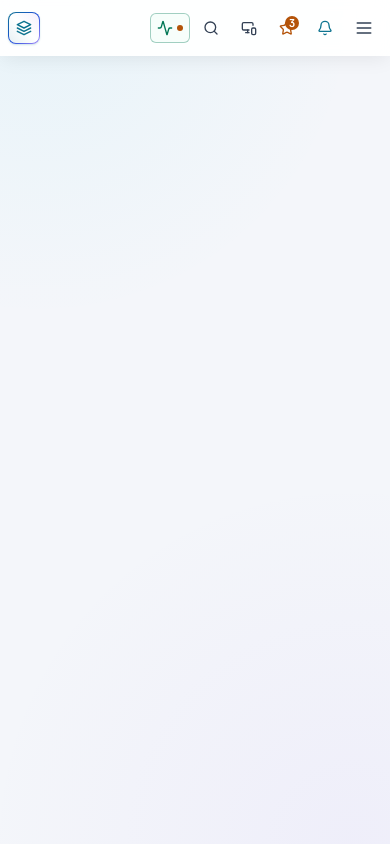
Test case: Strategy Lab Navigation Role Visibility & Mobile Drawer › NON-ADMIN (regular user): Лаборатория is absent in mobile drawer
The image size is (390, 844).
What coordinates should you click on to do the following:
click the button named "Меню"
I would click on:
 (364, 28)
Its box is x1=346 y1=10 x2=382 y2=46.
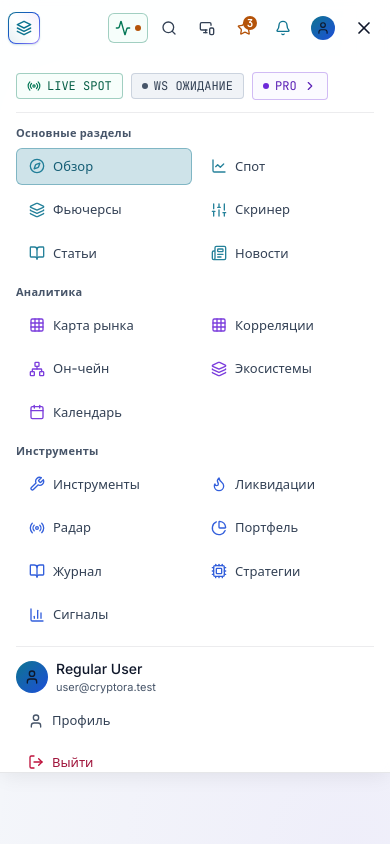
Expected: the text "Основные разделы" is shown, x1=16 y1=126 x2=132 y2=140
